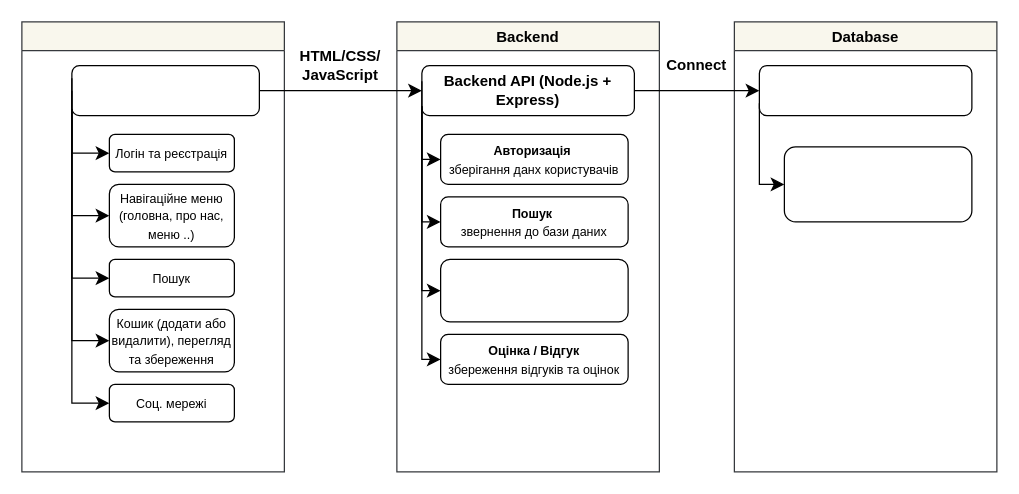
This 1019x494 diagram has some shape labels left out. Here are the shapes that lost their labels. From the top down, the box of each, then its label:
(71, 64, 259, 116): User
(758, 64, 972, 116): My SQL
(783, 146, 972, 222): Таблиці: Users, categories, products, orders, ordersItems, contacs
(21, 21, 284, 472): Frontent
(439, 258, 628, 322): Оформлення замовлення створення замовлення, обробка, історія
